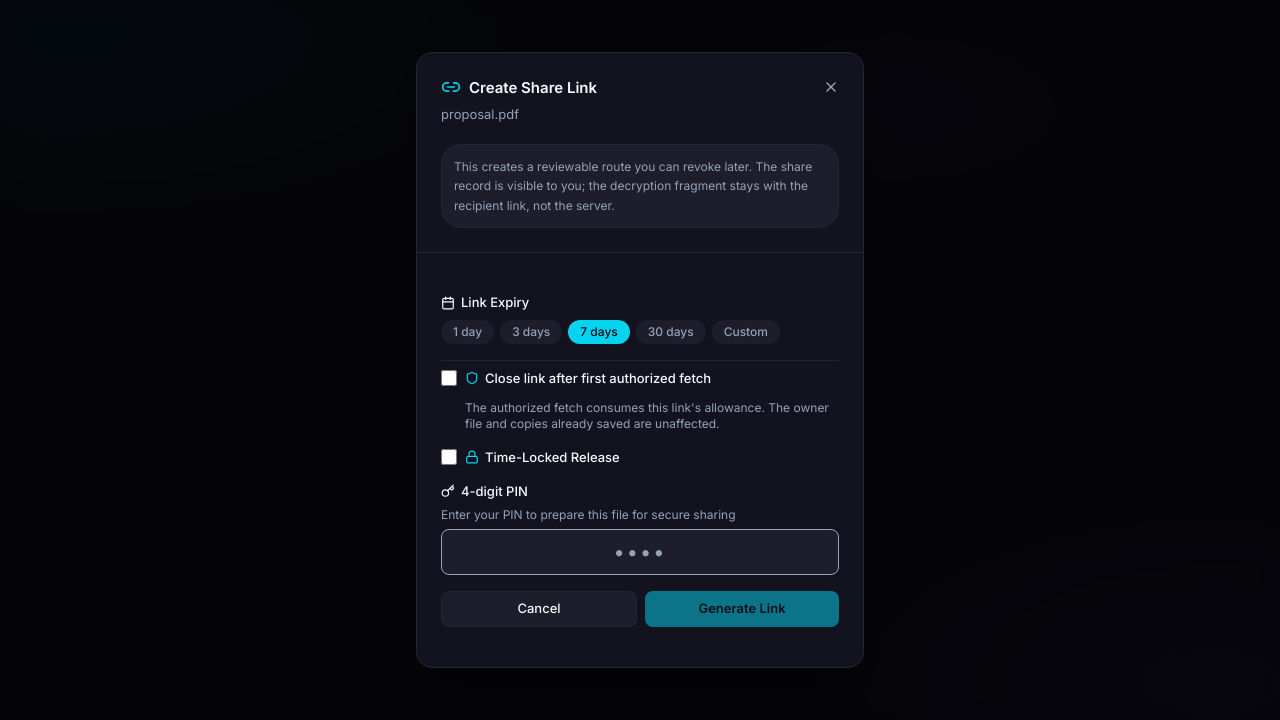
Test: CreateShareLinkModal verified key recovery › does not create a share grant when authenticated decryption rejects the PIN
Type "9999" into the password field labelled "4-digit PIN".
click(640, 552); type("9999")  # box [441,529,839,575]
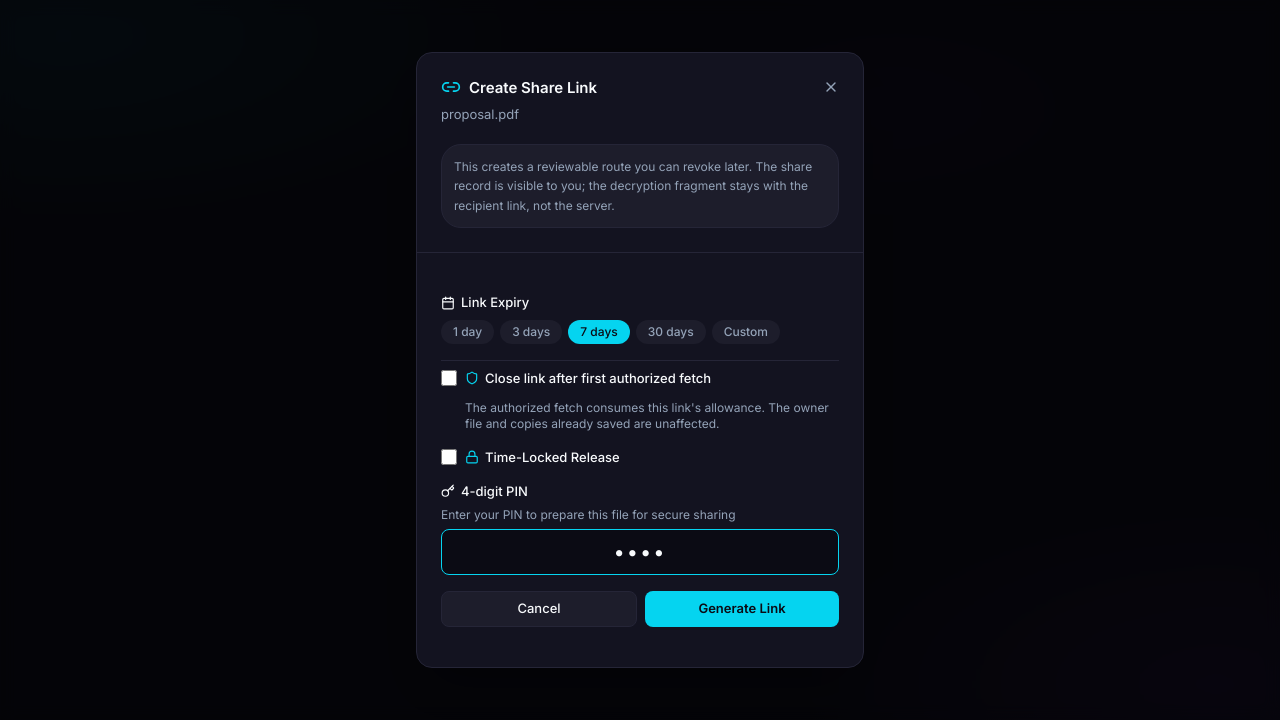
Click the button "Generate Link".
click(742, 609)  # box [645,591,839,627]
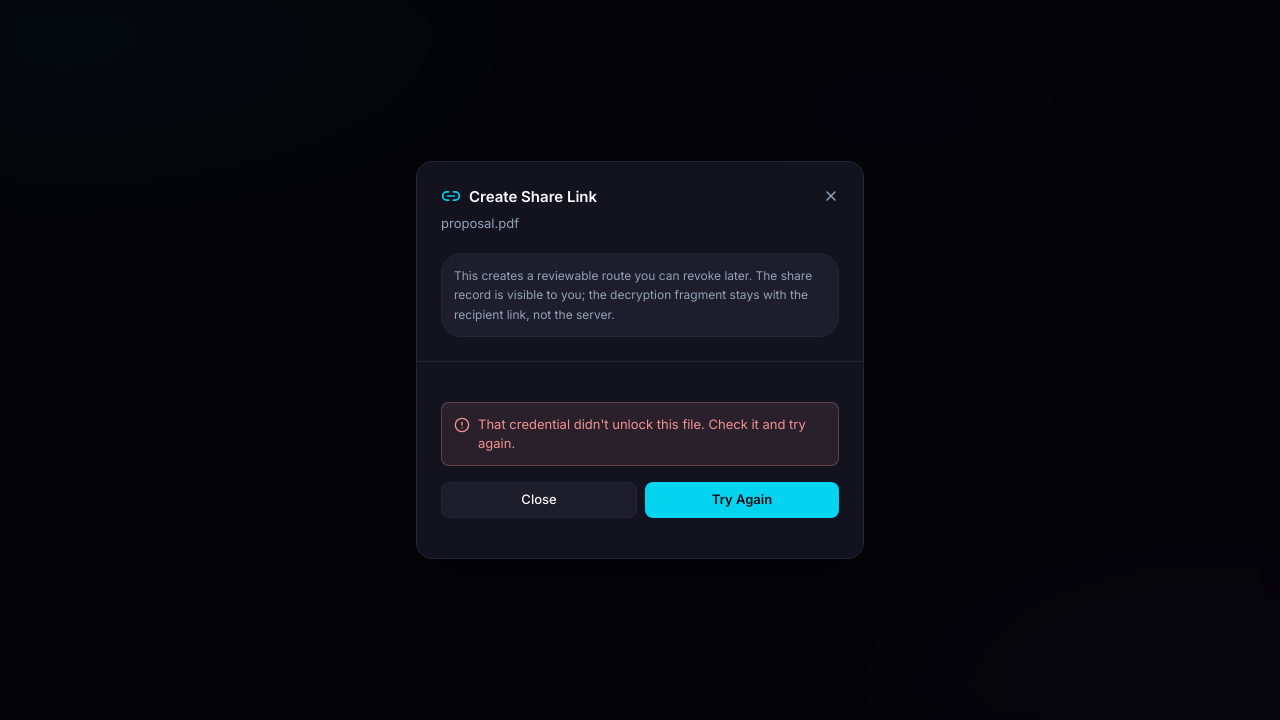
Result: the text "That credential didn't unlock this file. Check it and try again." is shown at [478,416,826,453]
